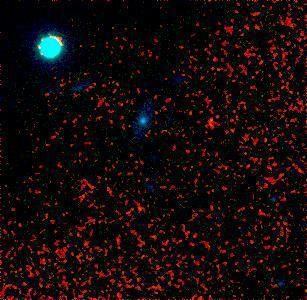star: (114, 110, 144, 140)
